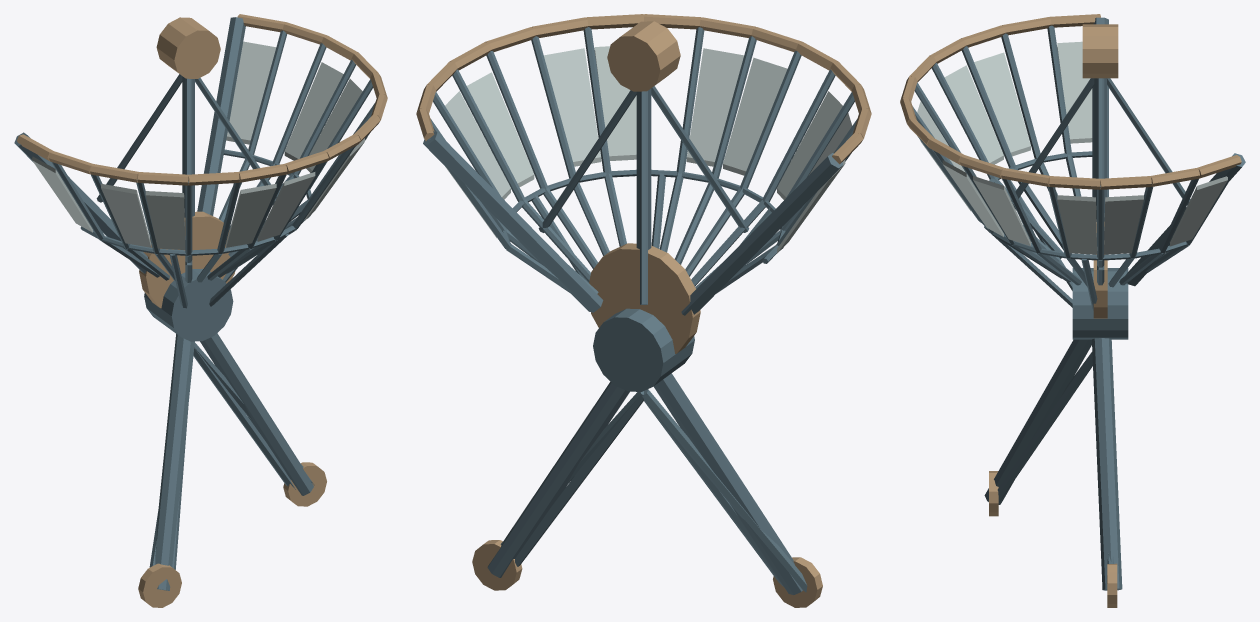
File: crown-receiver.glb
3 views of the same model, side by side, from view 1: azimuth 30°, elevation 25°; view 2: azimuth 150°, elevation 25°; view 3: azimuth 270°, elevation 25° (orthographic). The views are drawn at different scales.
Parts seen in each view (by area): view 1: Receiver / structural graphite, Receiver / segmented pale reflectors, Receiver / copper contact hardware; view 2: Receiver / structural graphite, Receiver / segmented pale reflectors, Receiver / copper contact hardware; view 3: Receiver / structural graphite, Receiver / segmented pale reflectors, Receiver / copper contact hardware.
Boxes of the visible parts, x1,y1,x2,y2 form: Receiver / structural graphite: (14,17,375,590); Receiver / segmented pale reflectors: (32,41,367,249); Receiver / copper contact hardware: (17,14,387,607); Receiver / structural graphite: (423,27,857,594); Receiver / segmented pale reflectors: (445,46,852,253); Receiver / copper contact hardware: (416,14,871,607); Receiver / structural graphite: (912,17,1245,590); Receiver / segmented pale reflectors: (917,41,1227,254); Receiver / copper contact hardware: (900,14,1241,607).
Bounding box in the file's own units: 1.01 × 1.46 × 0.8691.
